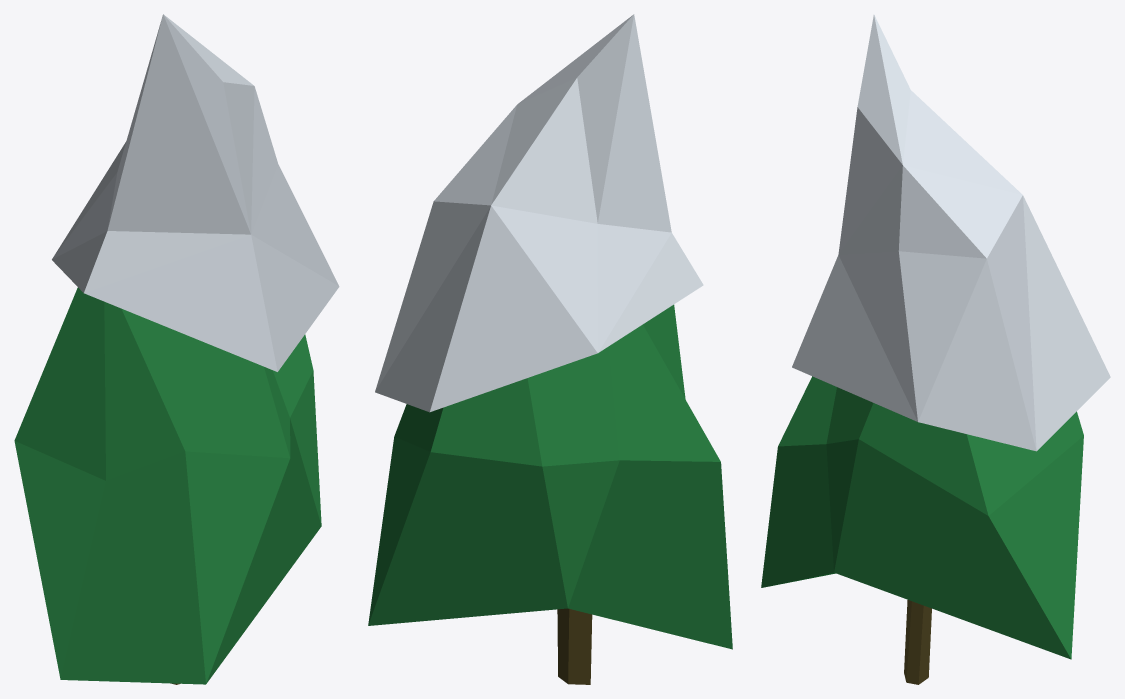
File: TreeWinter9.fbx
The picture shows the model from 3 angles, left to right: view 1: azimuth 30°, elevation 25°; view 2: azimuth 150°, elevation 25°; view 3: azimuth 270°, elevation 25°; orthographic projection. The views are drawn at different scales.
Visible parts, largest first — view 1: TreeWinter9; view 2: TreeWinter9; view 3: TreeWinter9.
Boxes of the visible parts, x1,y1,x2,y2 form: TreeWinter9: (14, 14, 339, 684); TreeWinter9: (368, 14, 732, 684); TreeWinter9: (761, 14, 1110, 684).
Size of the model in its own units: 1.47 by 3.03 by 1.49.
